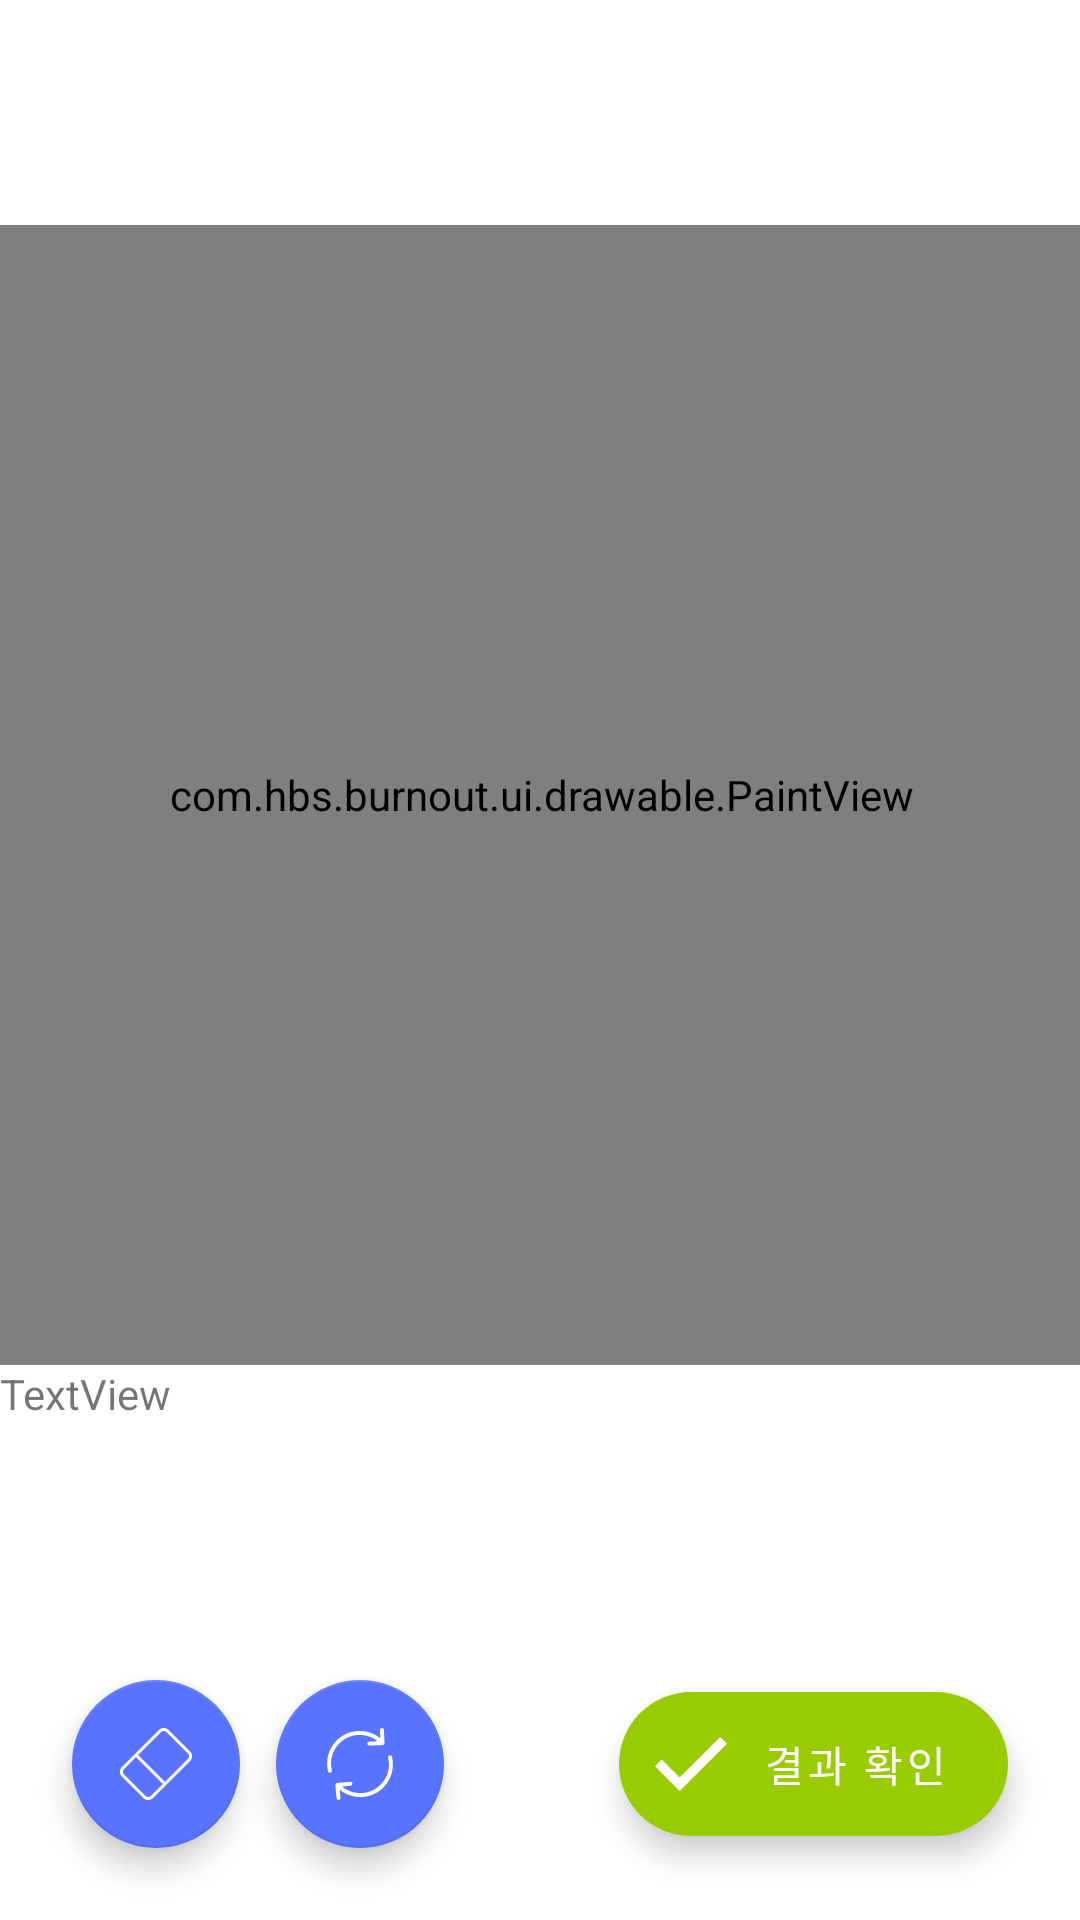

Icons on this 1080×1920 Android screen, each with the point to tap as [x,y]:
eraser: [156,1764]
refresh: [360,1764]
